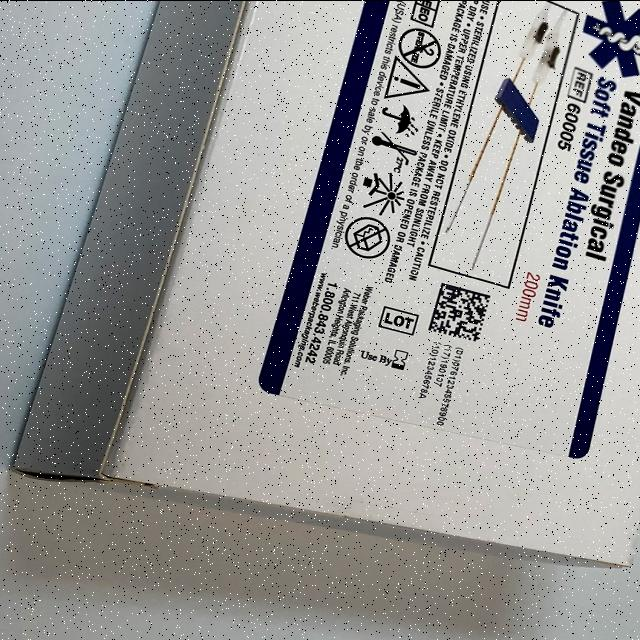datamatrix: (422, 277, 500, 344)
